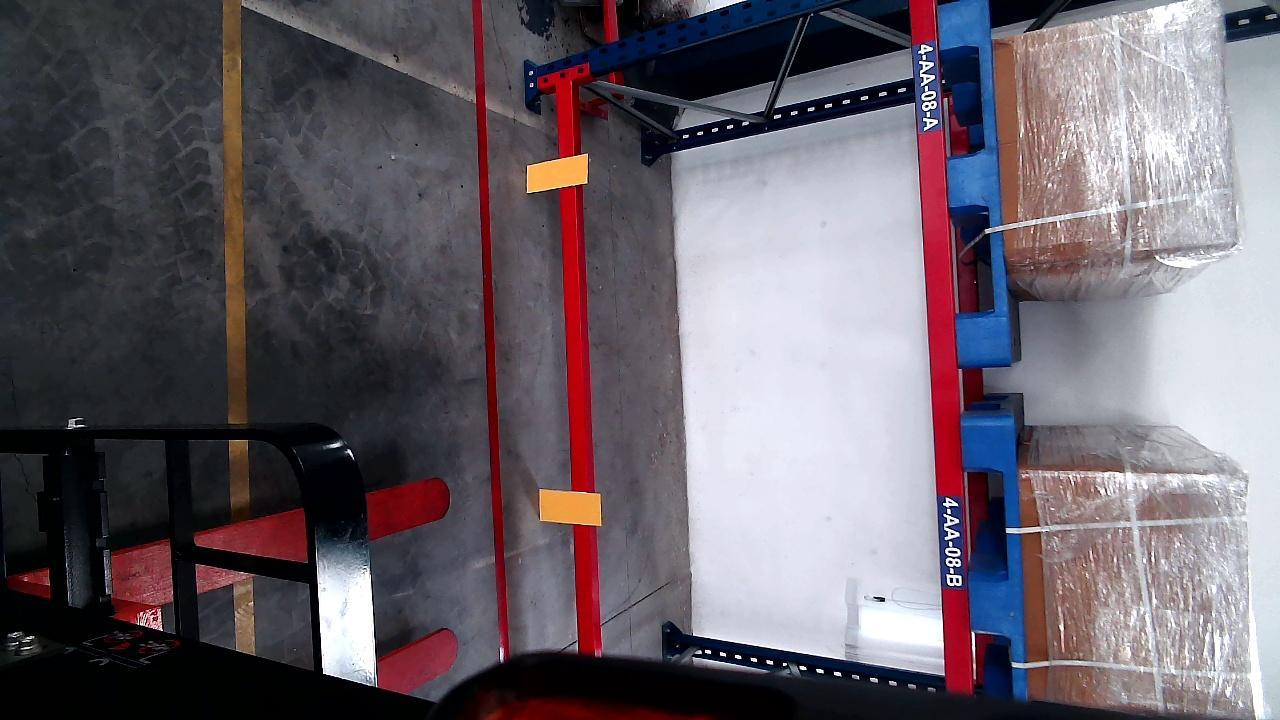red_line: (471, 0, 509, 659)
yellow_line: (222, 4, 255, 653)
